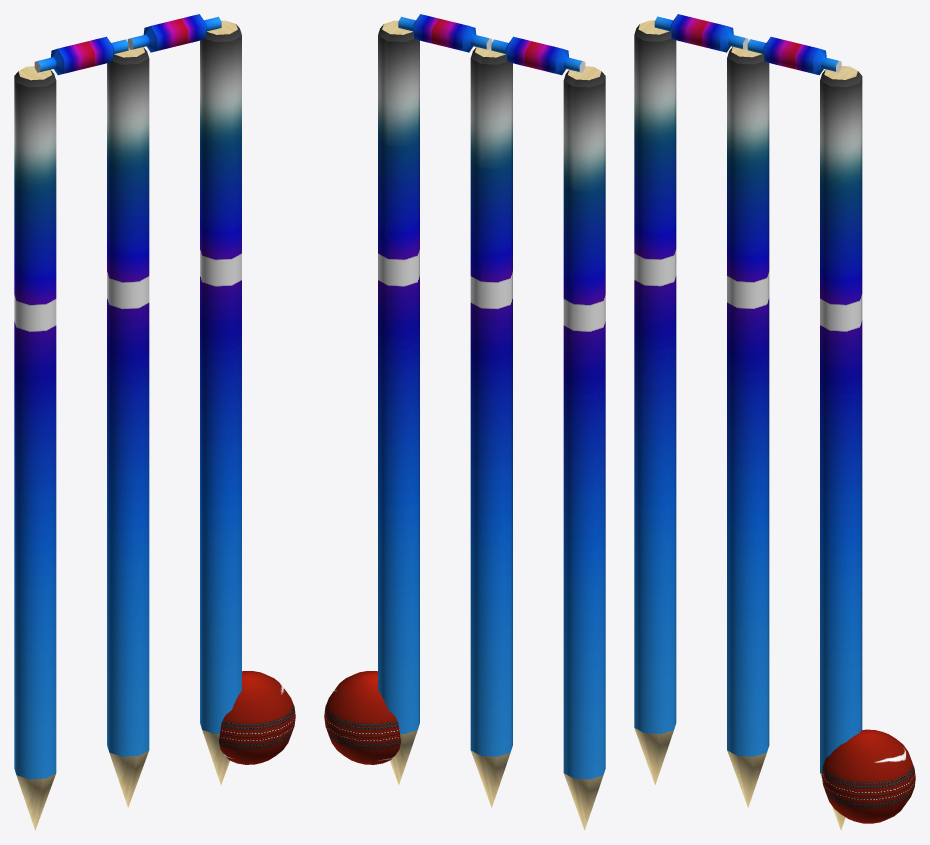
Rendered from Stumps_Ball.fbx.
The picture shows the model from 3 angles, left to right: view 1: azimuth 30°, elevation 25°; view 2: azimuth 150°, elevation 25°; view 3: azimuth 330°, elevation 25°; orthographic projection.
Parts seen in each view (by area): view 1: stump_2, stump_1, stump_3, Ball, bails_1, bails_2; view 2: stump_2, stump_1, stump_3, Ball, bails_1, bails_2; view 3: stump_2, stump_1, stump_3, Ball, bails_1, bails_2.
Boxes of the visible parts, x1,y1,x2,y2 form: stump_2: (14,66,56,830); stump_1: (107,47,149,807); stump_3: (200,20,241,784); Ball: (219,671,295,764); bails_1: (34,36,128,75); bails_2: (127,14,221,52); stump_2: (563,66,605,830); stump_1: (470,47,512,807); stump_3: (378,20,419,784); Ball: (324,671,400,764); bails_1: (491,36,585,75); bails_2: (398,14,492,52); stump_2: (634,20,676,784); stump_1: (727,47,769,807); stump_3: (820,66,862,830); Ball: (821,729,915,823); bails_1: (654,14,748,52); bails_2: (747,37,841,75).
Size of the model in its own units: 586 by 1593 by 171.
Materials: 1 (1 with a texture image).
